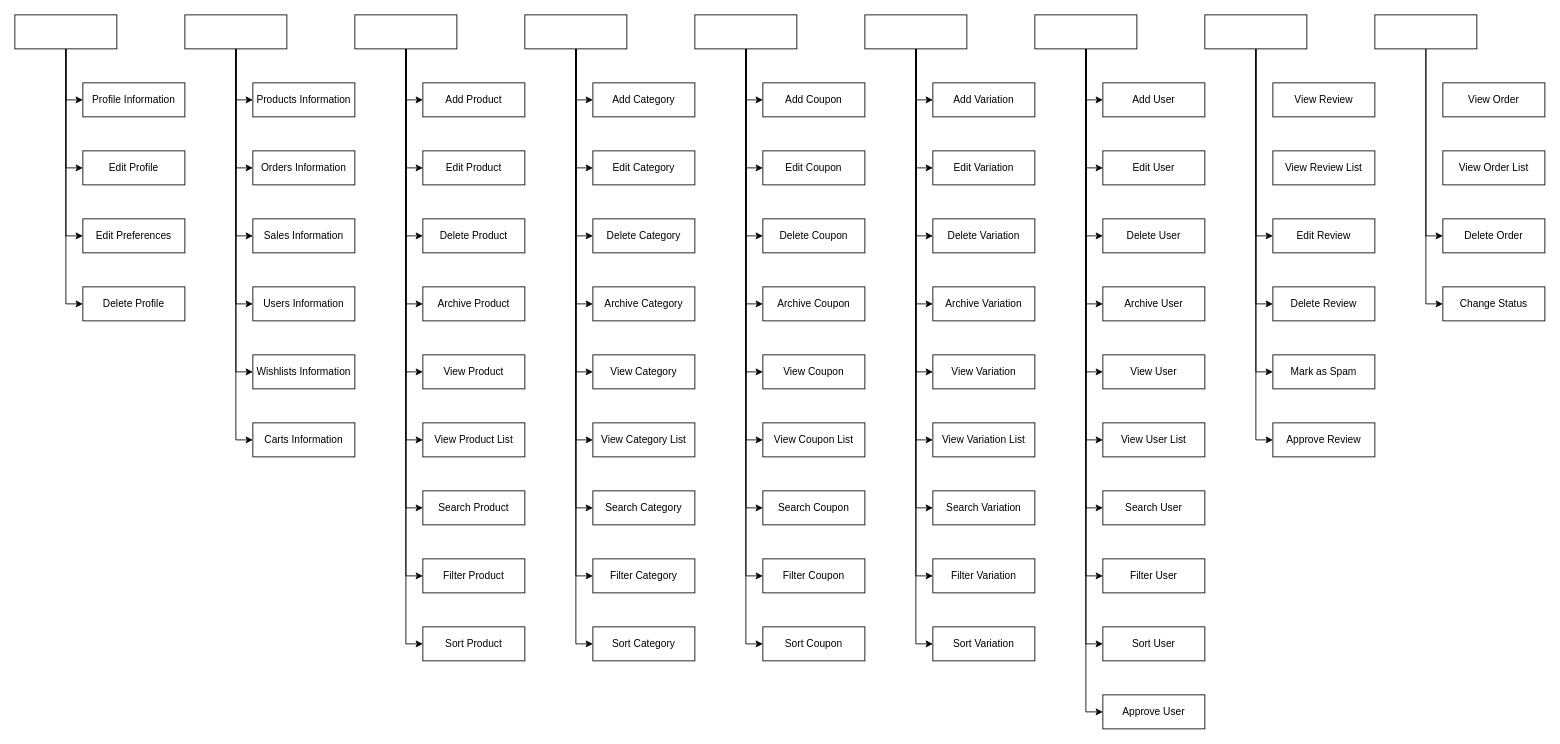
Some shapes in this 1560 by 744 pixel diagram are drawn without their labels. The shapes that lost their labels are listed below. From the top down, each one's centre as x and y in pixels, then its label:
(65,31): Profile Page
(235,31): Dashboard Page
(405,31): Products Page
(575,31): Categories Page
(745,31): Coupons Page
(915,31): Variations Page
(1085,31): Users Page
(1255,31): Reviews
(1425,31): Orders
